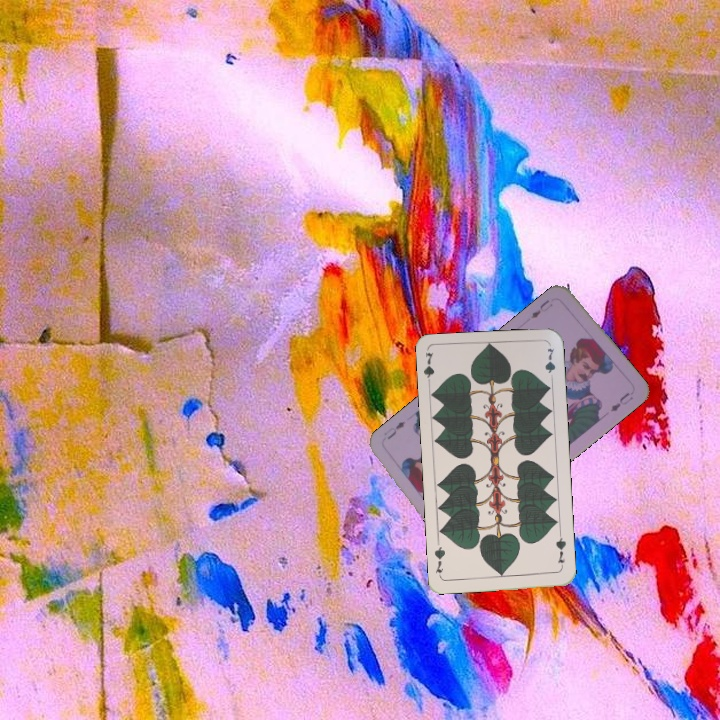EU: (527, 296, 555, 321)
G7: (551, 531, 569, 571), (420, 349, 437, 390)
